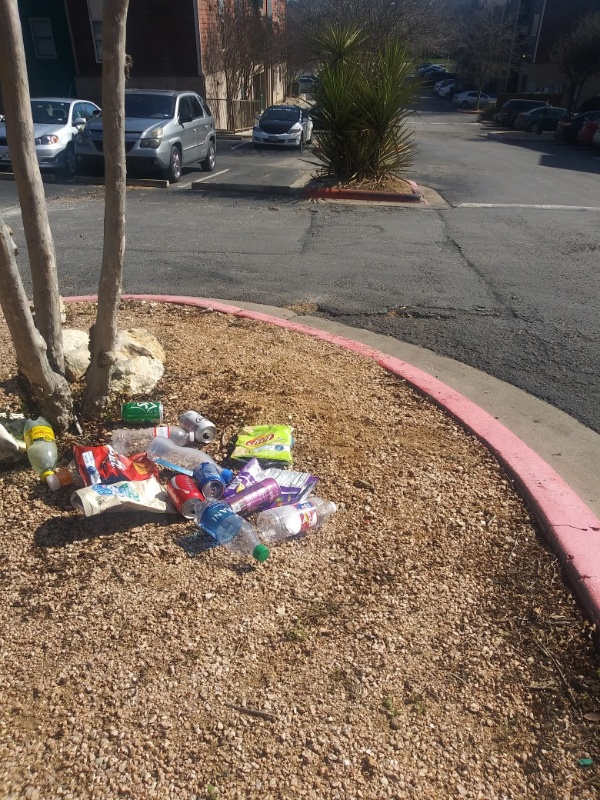bag: (72, 473, 181, 527), (219, 456, 323, 508), (67, 438, 167, 480), (226, 421, 299, 468)
bottle: (192, 496, 272, 567), (144, 435, 236, 484), (255, 497, 341, 543), (17, 415, 58, 483), (106, 425, 200, 451), (42, 464, 78, 496)
can: (225, 475, 283, 521), (160, 474, 206, 519), (190, 461, 229, 504), (176, 409, 220, 445), (116, 399, 168, 425)
